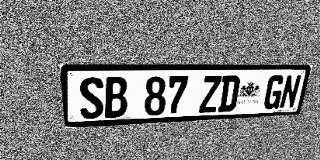7: (165, 76, 188, 115)
8: (144, 76, 167, 116)
B: (104, 77, 127, 118)
D: (217, 76, 241, 112)
G: (262, 75, 286, 110)
N: (279, 75, 302, 109)
S: (78, 77, 104, 119)
Z: (199, 76, 222, 113)
